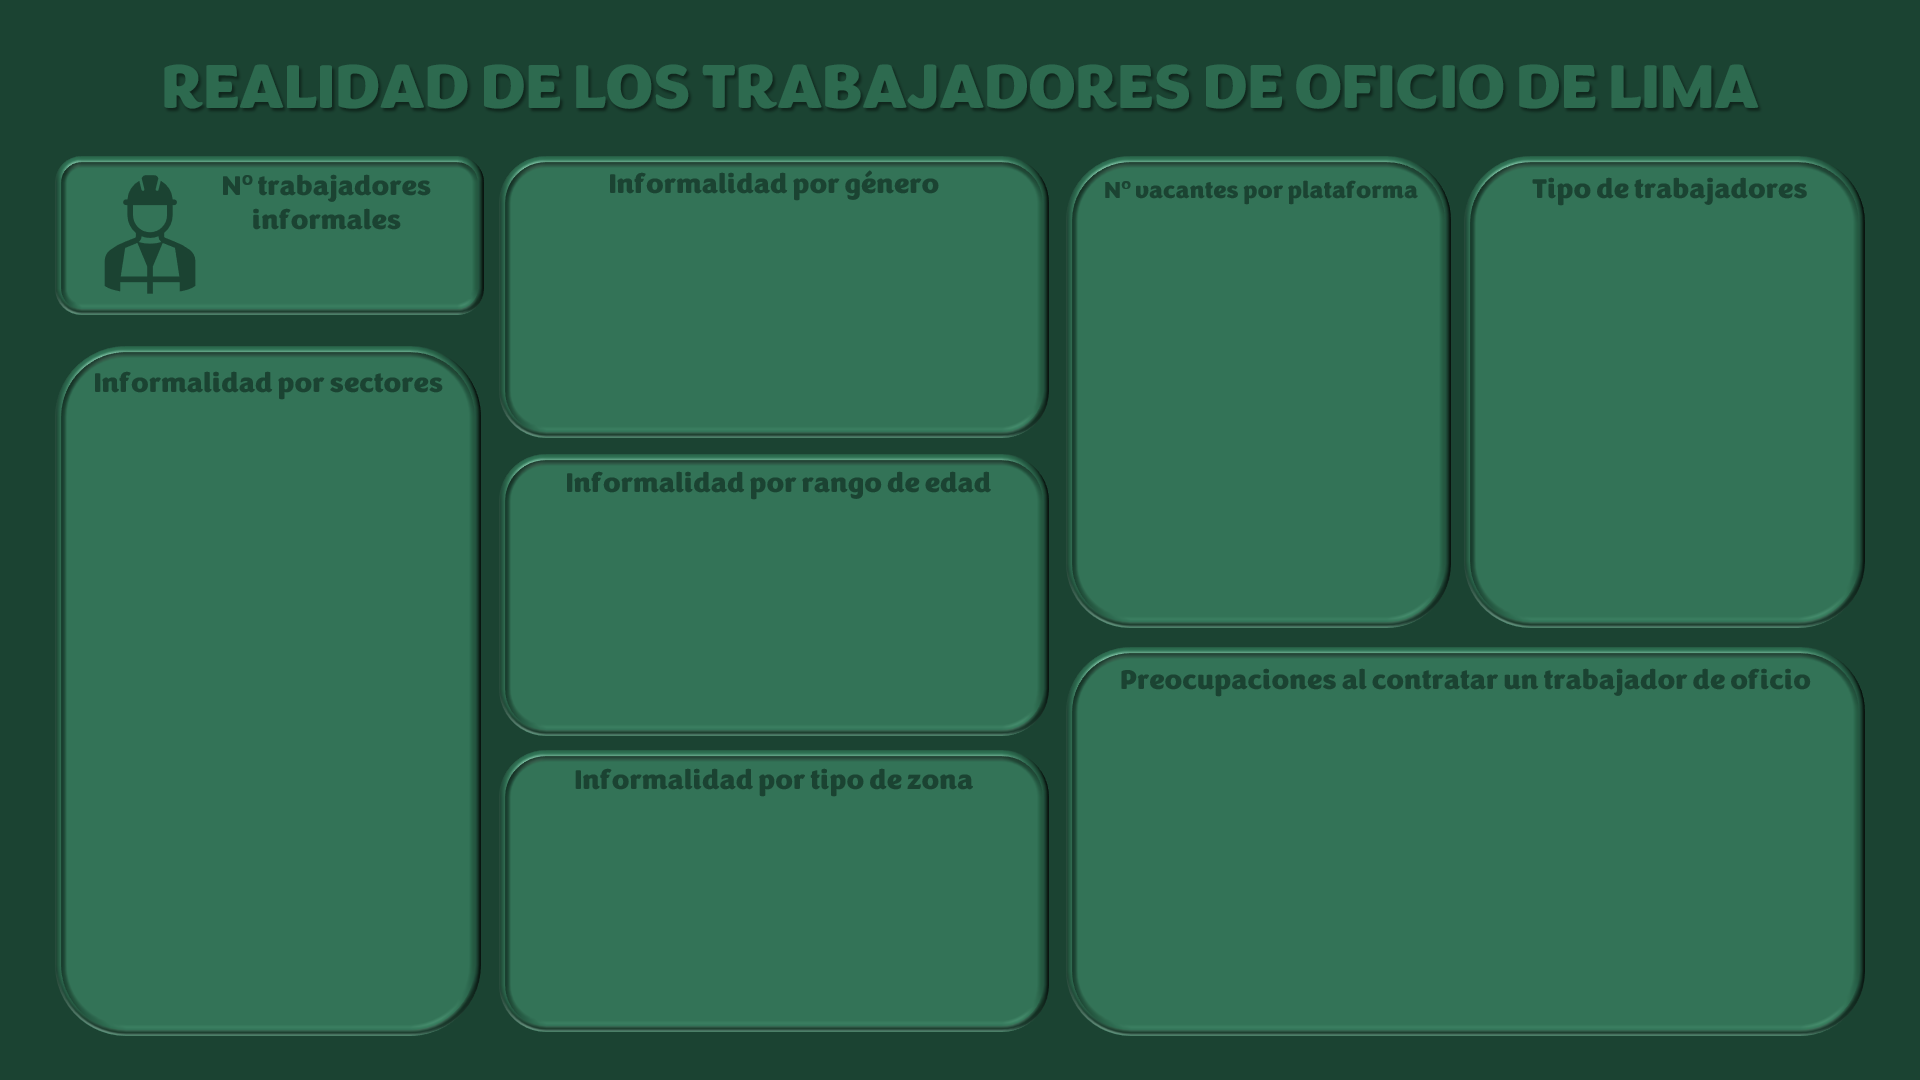

This screenshot's page, from the dashboard's own definition file:
{"tool":"powerbi","page":{"name":"Página 1","canvas":[1280,720],"ordinal":0},"visuals":[{"type":"pieChart","fields":{"Category":["Informalidad_edad.Rango_edad"],"Y":["Sum(Informalidad_edad.Porcentaje)"]},"box":[330.1,315.3,359.5,175.5],"z":0},{"type":"donutChart","fields":{"Category":["Informalidad_gen.Género"],"Y":["Sum(Informalidad_gen.Porcentaje)"]},"box":[335,122.7,349.7,174.2],"z":1000},{"type":"barChart","fields":{"Category":["Informalidad_sector.Sector"],"Y":["Sum(Informalidad_sector.%Informal)","Sum(Informalidad_sector.%Formal)"]},"box":[42.2,265.6,271.1,402.2],"z":2000},{"type":"pieChart","fields":{"Category":["Informalidad_zona.Tipo_zona"],"Y":["Sum(Informalidad_zona.Porcentaje)"]},"box":[330.1,511.7,359.5,186.5],"z":3000},{"type":"treemap","fields":{"Group":["Preocupaciones.Preocupación"],"Values":["CountNonNull(Preocupaciones.Trabajo)"]},"box":[732.2,463.3,493.3,216.7],"z":4000},{"type":"columnChart","fields":{"Category":["Situacion_empleo.Tipo_trabajo"],"Y":["Sum(Situacion_empleo.N_per_emp)"]},"box":[982.8,142.3,250.3,271.2],"z":5000},{"type":"card","fields":{"Values":["Sum(Situacion_empleo.N_per_emp)"]},"box":[139.9,144.8,162,65],"z":6000},{"type":"clusteredBarChart","fields":{"Y":["Busqueda_trabajo.Total_trabajos"],"Category":["Busqueda_trabajo.Plataforma"]},"box":[712.9,132.5,242.9,265],"z":7000}]}

Visuals, with their boxes in screenshot pixels (x1, y1, x2, y2), scaled from the page's 1280x720 canvas onto the 1920x1080 screenshot:
pieChart - Informalidad_edad.Rango_edad x Sum(Informalidad_edad.Porcentaje): rect(495, 473, 1034, 736)
donutChart - Informalidad_gen.Género x Sum(Informalidad_gen.Porcentaje): rect(502, 184, 1027, 445)
barChart - Informalidad_sector.Sector x Sum(Informalidad_sector.%Informal): rect(63, 398, 470, 1002)
pieChart - Informalidad_zona.Tipo_zona x Sum(Informalidad_zona.Porcentaje): rect(495, 768, 1034, 1047)
treemap - Preocupaciones.Preocupación x CountNonNull(Preocupaciones.Trabajo): rect(1098, 695, 1838, 1020)
columnChart - Situacion_empleo.Tipo_trabajo x Sum(Situacion_empleo.N_per_emp): rect(1474, 213, 1850, 620)
card - Sum(Situacion_empleo.N_per_emp): rect(210, 217, 453, 315)
clusteredBarChart - Busqueda_trabajo.Total_trabajos x Busqueda_trabajo.Plataforma: rect(1069, 199, 1434, 596)
